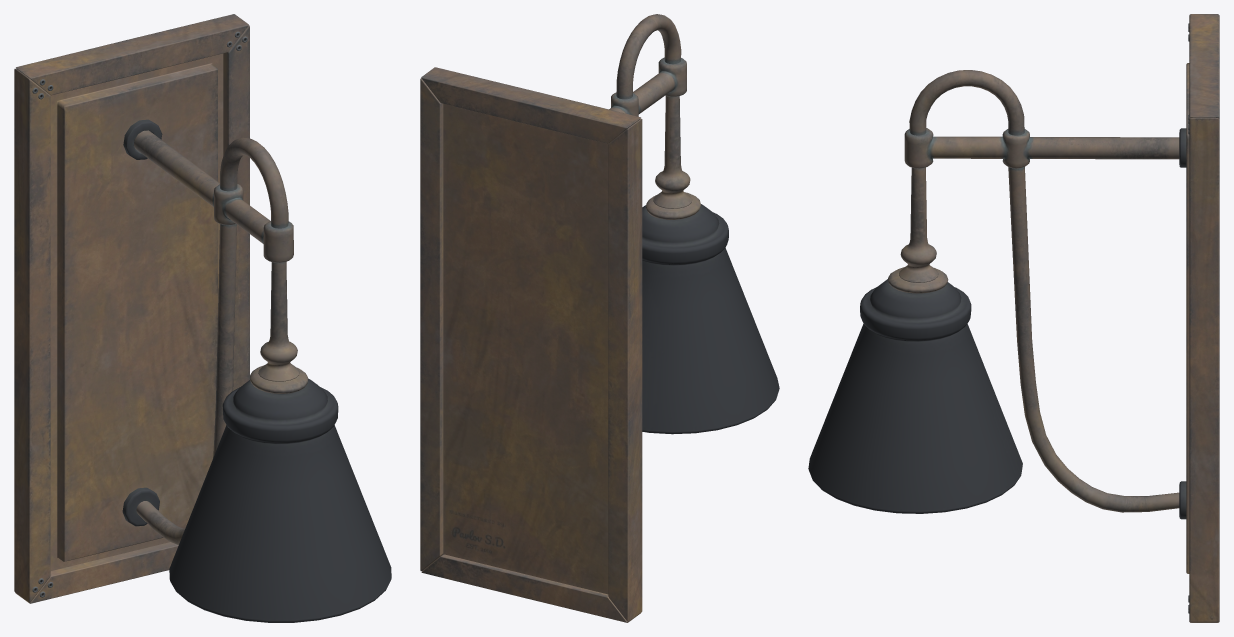
The model's file is industrial_wall_sconce_1k.gltf.
3 renders of one model, left to right at view 1: azimuth 30°, elevation 25°; view 2: azimuth 150°, elevation 25°; view 3: azimuth 270°, elevation 25°, orthographic. The views are drawn at different scales.
Parts seen in each view (by area): view 1: industrial_wall_sconce; view 2: industrial_wall_sconce; view 3: industrial_wall_sconce.
Boxes of the visible parts, left/top/right/bottom form: industrial_wall_sconce: left=14, top=14, right=391, bottom=622; industrial_wall_sconce: left=420, top=14, right=779, bottom=622; industrial_wall_sconce: left=808, top=14, right=1219, bottom=622.
Bounding box in the file's own units: 0.1503 × 0.3418 × 0.2516.
2 materials, 2 textured.
